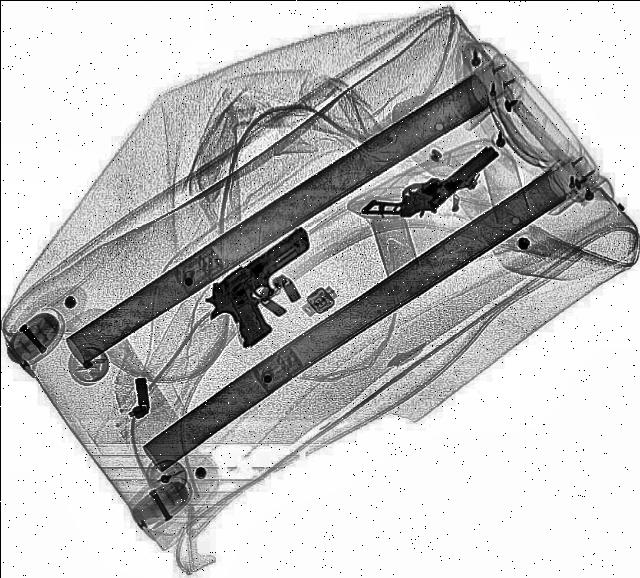Gun: (188, 224, 352, 350), (357, 122, 503, 242)
